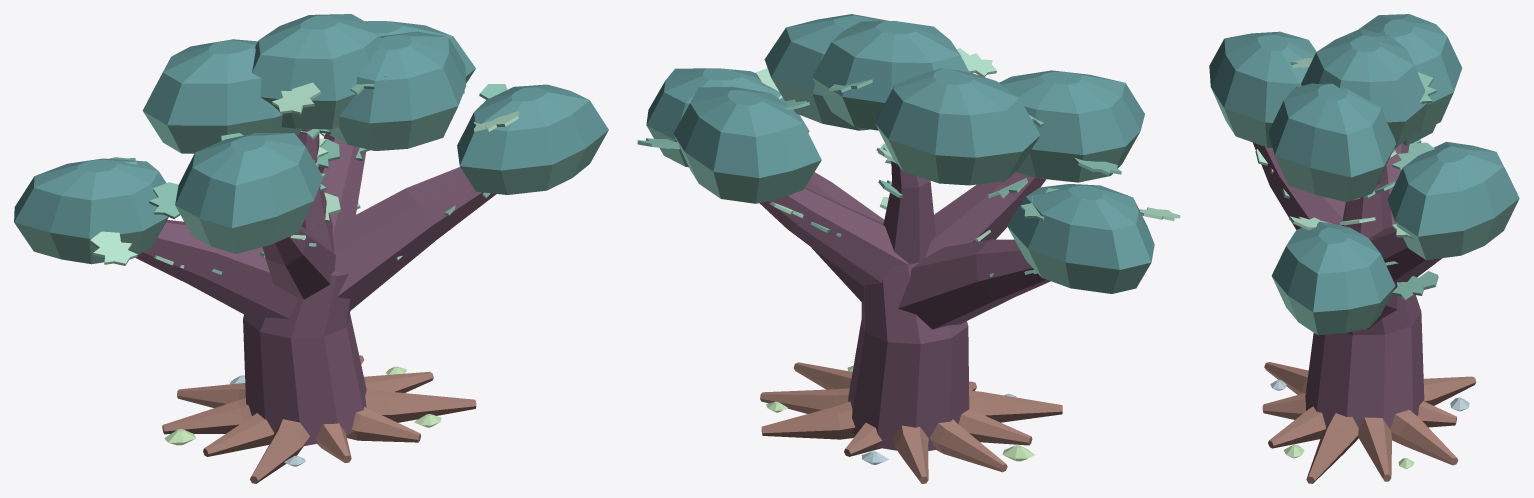
The model's file is lagoon_tree_garry_oak.glb.
3 renders of one model, left to right at view 1: azimuth 30°, elevation 25°; view 2: azimuth 150°, elevation 25°; view 3: azimuth 270°, elevation 25°, orthographic. The views are drawn at different scales.
Parts seen in each view (by area): view 1: lagoon_tree_garry_oak.001; view 2: lagoon_tree_garry_oak.001; view 3: lagoon_tree_garry_oak.001.
Part boxes in pixels (x1,y1,x2,y2): lagoon_tree_garry_oak.001: (14, 14, 608, 483); lagoon_tree_garry_oak.001: (637, 14, 1180, 483); lagoon_tree_garry_oak.001: (1209, 14, 1519, 483).
Size of the model in its own units: 10.08 by 7.09 by 5.19.
